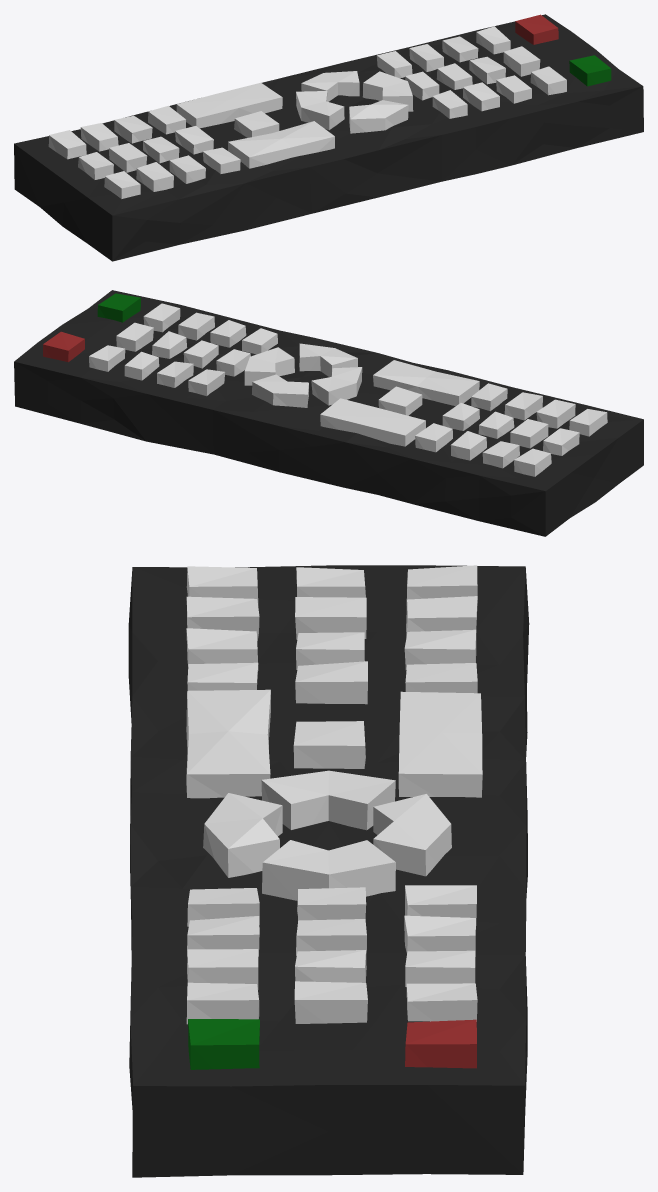
The model's file is item_remote.fbx.
3 views of the same model, one above another, from view 1: azimuth 30°, elevation 25°; view 2: azimuth 150°, elevation 25°; view 3: azimuth 270°, elevation 25° (orthographic). The views are drawn at different scales.
Visible parts, largest first — view 1: item_remote; view 2: item_remote; view 3: item_remote.
Boxes of the visible parts, <box> form: item_remote: <box>14,14,643,261</box>; item_remote: <box>14,290,643,536</box>; item_remote: <box>128,565,529,1177</box>.
Bounding box in the file's own units: 39.1 × 4.49 × 12.72.
